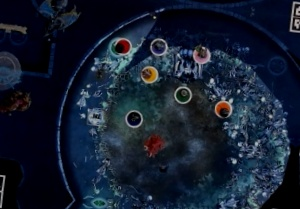blue: (123, 105, 147, 129)
green: (171, 81, 196, 106)
orange: (211, 96, 236, 119)
pink: (191, 42, 217, 67)
red: (113, 36, 132, 56)
violet: (148, 34, 170, 55)
yellow: (138, 61, 162, 85)
